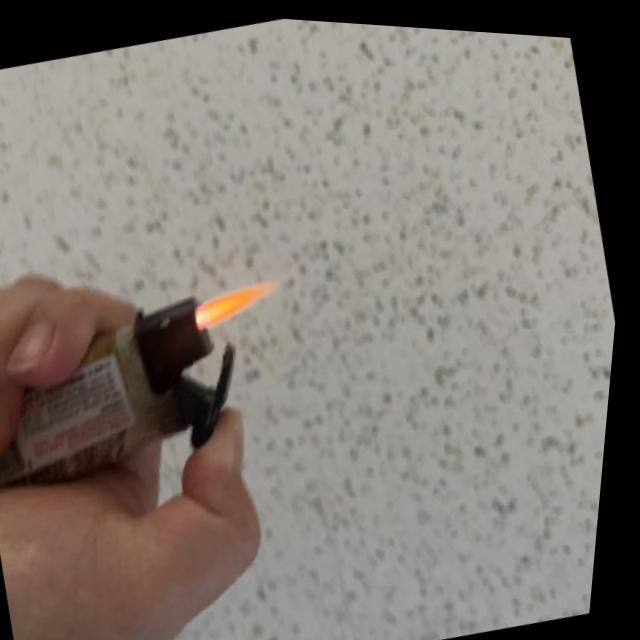Fire: (197, 270, 283, 333)
